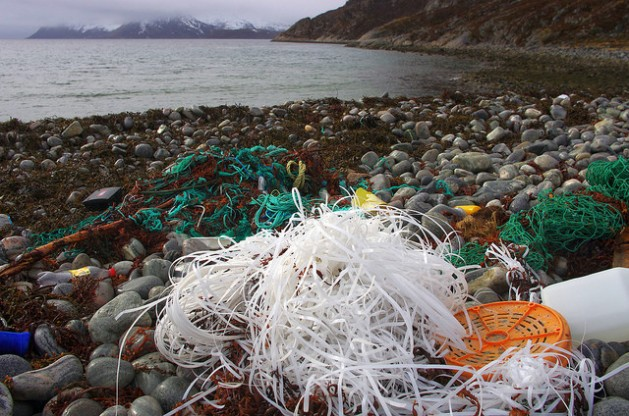litter: (126, 201, 485, 400), (1, 141, 513, 276), (421, 286, 588, 394), (492, 153, 629, 261), (523, 245, 629, 345), (69, 174, 137, 216), (1, 316, 38, 354)
